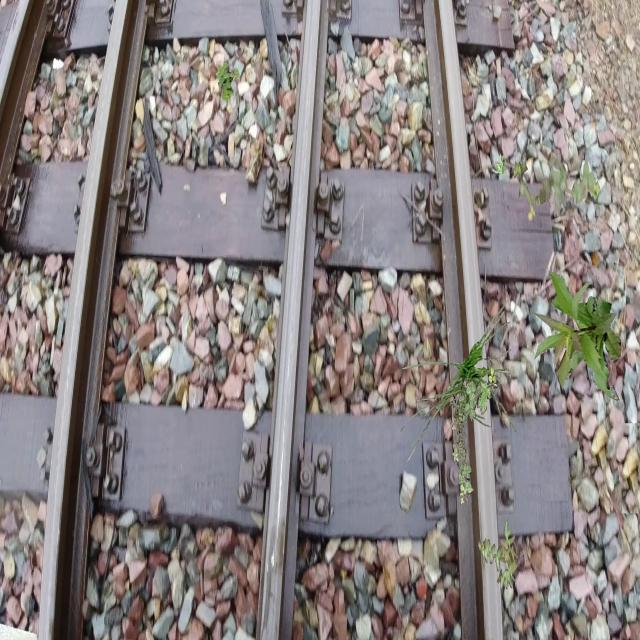Plant: (400, 299, 518, 462), (533, 271, 622, 401), (449, 368, 498, 506), (513, 153, 600, 222), (477, 519, 518, 590), (216, 61, 240, 102), (493, 154, 507, 174)
